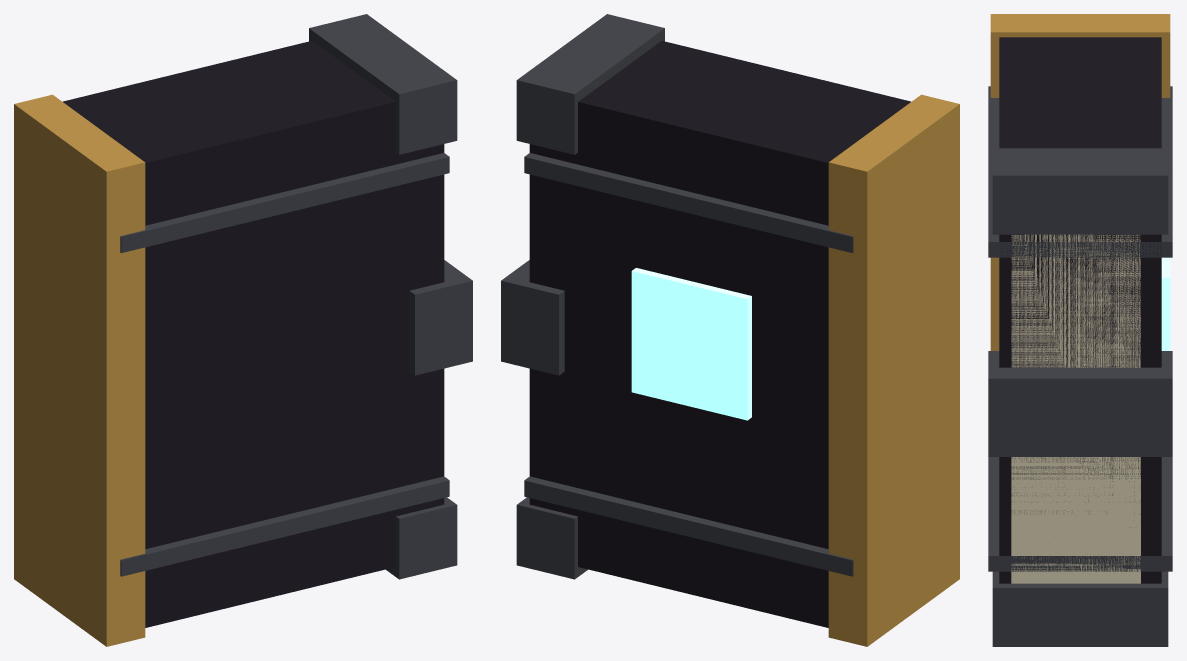
File: grimoire.glb
The picture shows the model from 3 angles, left to right: view 1: azimuth 30°, elevation 25°; view 2: azimuth 150°, elevation 25°; view 3: azimuth 270°, elevation 25°; orthographic projection. The views are drawn at different scales.
Visible parts, largest first — view 1: Grimoire_Grimoire_cover, Grimoire_Brass, Grimoire_Darksteel; view 2: Grimoire_Grimoire_cover, Grimoire_Brass, Grimoire_Darksteel, Grimoire_Accent; view 3: Grimoire_Darksteel, Grimoire_Grimoire_cover, Grimoire_Paper, Grimoire_Brass, Grimoire_Accent.
Boxes of the visible parts, left/top/right/bottom form: Grimoire_Grimoire_cover: left=63, top=41, right=444, bottom=627; Grimoire_Brass: left=14, top=94, right=145, bottom=646; Grimoire_Darksteel: left=120, top=14, right=472, bottom=579; Grimoire_Grimoire_cover: left=529, top=41, right=910, bottom=627; Grimoire_Brass: left=828, top=94, right=959, bottom=646; Grimoire_Darksteel: left=501, top=14, right=853, bottom=579; Grimoire_Accent: left=631, top=268, right=751, bottom=420; Grimoire_Darksteel: left=988, top=86, right=1172, bottom=646; Grimoire_Grimoire_cover: left=999, top=37, right=1161, bottom=583; Grimoire_Paper: left=1011, top=234, right=1140, bottom=583; Grimoire_Brass: left=990, top=14, right=1170, bottom=350; Grimoire_Accent: left=1161, top=257, right=1170, bottom=350.
Bounding box in the file's own units: 0.189 × 0.24 × 0.085.
